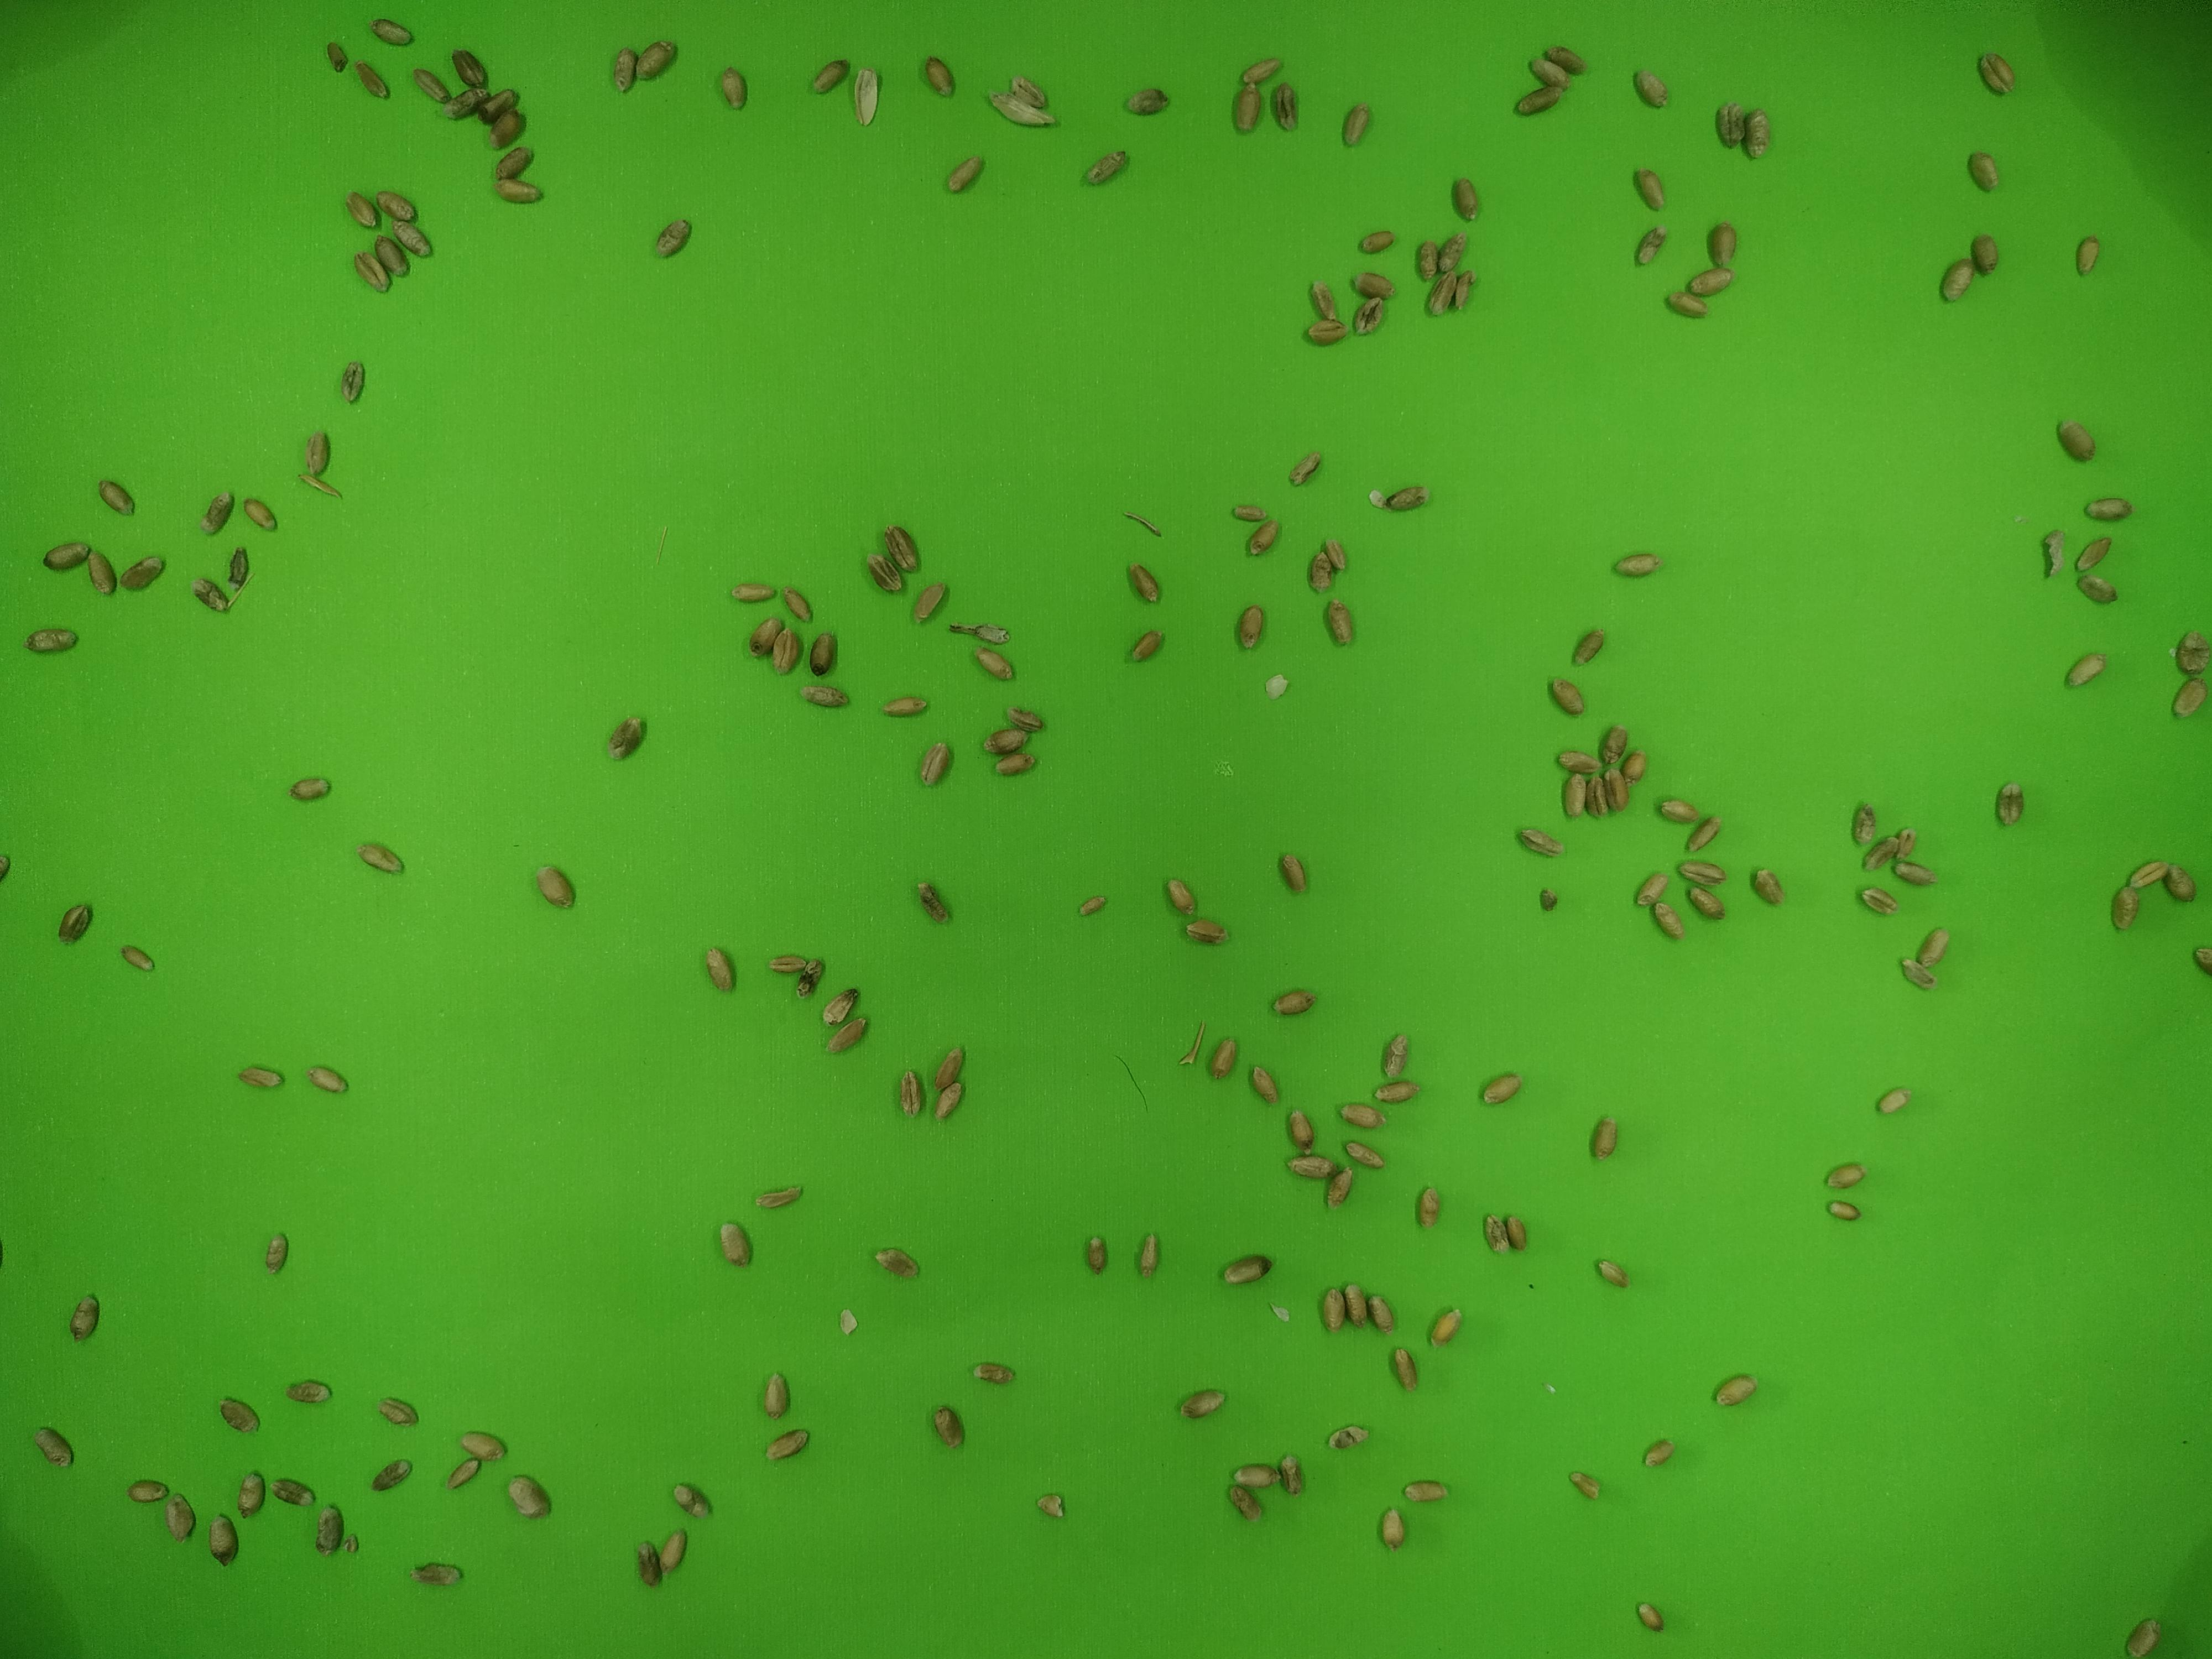bueno: (1976, 48, 2016, 98), (910, 879, 957, 923), (990, 744, 1040, 784), (915, 50, 956, 98), (2054, 418, 2100, 460), (757, 1369, 792, 1424), (1121, 561, 1164, 606), (507, 1473, 549, 1519), (1738, 107, 1776, 158), (532, 863, 575, 907), (485, 105, 526, 150), (1682, 881, 1728, 922), (1234, 600, 1269, 654), (312, 1503, 347, 1557), (943, 152, 984, 197), (701, 944, 739, 993), (1477, 1070, 1527, 1107), (1275, 845, 1310, 899), (1322, 594, 1356, 649), (161, 1492, 197, 1543), (51, 901, 92, 947), (634, 38, 680, 78), (2063, 649, 2110, 688), (1161, 873, 1199, 920), (714, 63, 750, 113), (1936, 255, 1975, 301), (122, 551, 167, 591), (1714, 96, 1746, 152), (1410, 1182, 1445, 1233), (354, 839, 404, 875), (217, 1394, 260, 1435), (1913, 928, 1953, 972), (2072, 533, 2116, 573), (1965, 144, 2000, 196), (458, 1429, 507, 1465), (655, 1526, 691, 1575), (351, 247, 389, 294), (1350, 266, 1397, 304), (284, 771, 333, 806), (1238, 51, 1285, 89), (932, 1399, 964, 1454), (1225, 1483, 1268, 1524), (917, 737, 952, 786), (824, 1016, 871, 1053), (808, 55, 851, 95), (1446, 176, 1482, 225), (1335, 1099, 1389, 1131), (2124, 1618, 2166, 1659), (1515, 81, 1562, 118), (373, 1393, 420, 1430), (41, 538, 91, 572), (1318, 1281, 1348, 1338), (1684, 815, 1726, 855), (1896, 953, 1938, 993), (1244, 515, 1284, 557), (1746, 865, 1786, 907), (969, 645, 1016, 681), (34, 1423, 72, 1467), (1266, 985, 1317, 1019), (1207, 1034, 1241, 1083), (1560, 770, 1592, 823), (1321, 1163, 1357, 1211), (207, 1509, 238, 1564), (1707, 217, 1740, 269), (1965, 228, 2001, 274), (412, 1558, 462, 1591), (1177, 1386, 1228, 1419), (1247, 1059, 1281, 1108), (1220, 1253, 1271, 1285), (2070, 572, 2121, 604), (1427, 1305, 1464, 1350), (1547, 675, 1587, 717), (302, 1061, 348, 1097), (669, 1480, 712, 1518), (23, 624, 76, 655), (1991, 781, 2025, 830), (67, 1293, 101, 1342), (1632, 163, 1666, 211), (1580, 779, 1624, 816), (494, 173, 539, 210), (910, 581, 947, 625), (724, 577, 776, 608), (1515, 826, 1564, 859), (1553, 744, 1601, 778), (1713, 1370, 1756, 1408), (1363, 1291, 1399, 1335), (1384, 482, 1433, 515), (1344, 1282, 1377, 1331), (872, 1244, 917, 1280), (493, 142, 535, 180), (352, 60, 390, 102), (1634, 867, 1671, 910), (774, 627, 804, 679), (656, 215, 690, 261), (1662, 289, 1713, 320), (407, 67, 453, 102), (2109, 881, 2141, 931), (86, 547, 118, 598), (1822, 1158, 1869, 1192), (931, 1076, 966, 1121), (764, 1428, 812, 1460), (966, 1358, 1018, 1388), (1123, 85, 1173, 117), (932, 1043, 968, 1087), (445, 1455, 484, 1495), (1676, 857, 1726, 888), (980, 723, 1026, 757), (1651, 896, 1686, 940), (1614, 547, 1662, 579), (1693, 260, 1734, 298), (1087, 147, 1128, 185), (1632, 67, 1670, 108), (1376, 1504, 1407, 1553), (1598, 720, 1630, 769), (1134, 1231, 1164, 1281), (1233, 84, 1264, 134), (1230, 1459, 1277, 1491), (1372, 1074, 1420, 1107), (800, 681, 852, 710), (1858, 883, 1901, 917), (234, 1471, 269, 1515), (1342, 100, 1373, 148), (1426, 269, 1459, 316), (1386, 1346, 1419, 1392), (611, 41, 639, 95), (374, 235, 410, 277), (2082, 494, 2135, 523), (880, 690, 931, 719), (718, 1221, 751, 1266), (1823, 1193, 1866, 1228), (1288, 1150, 1338, 1180), (95, 476, 134, 515), (1178, 918, 1231, 946), (1285, 1104, 1315, 1154), (234, 1062, 285, 1092), (452, 47, 488, 89), (300, 430, 332, 477), (2174, 631, 2207, 676), (239, 493, 276, 533), (1588, 1116, 1619, 1164), (1654, 794, 1700, 826), (1397, 1475, 1447, 1504), (1890, 858, 1939, 888), (444, 86, 487, 119), (1499, 1211, 1532, 1254), (343, 190, 379, 231), (1480, 1213, 1515, 1254), (269, 1476, 315, 1507), (1078, 1233, 1111, 1277), (1412, 237, 1444, 281), (749, 611, 779, 660), (810, 626, 837, 679), (1861, 836, 1897, 875), (284, 1378, 331, 1408), (259, 1231, 293, 1272), (1341, 1139, 1387, 1170), (1593, 1255, 1632, 1291), (2163, 863, 2198, 903), (1305, 312, 1345, 347), (633, 1541, 662, 1588), (120, 1476, 167, 1506), (1306, 277, 1338, 321), (373, 189, 419, 220), (1129, 625, 1165, 664), (1876, 827, 1921, 858), (2173, 676, 2208, 716), (1571, 625, 1604, 666), (1353, 228, 1400, 257), (118, 940, 156, 976), (368, 18, 414, 48), (371, 1457, 413, 1490), (1872, 1084, 1915, 1116), (1631, 1597, 1668, 1633), (1436, 231, 1472, 268), (1290, 448, 1321, 489), (1620, 748, 1652, 790), (2070, 234, 2099, 279), (389, 223, 434, 252), (471, 87, 509, 121), (1528, 57, 1567, 89), (1640, 1437, 1676, 1470), (2127, 858, 2170, 886), (315, 39, 351, 73), (1001, 705, 1045, 733), (781, 584, 812, 622), (1452, 264, 1477, 309), (1323, 536, 1348, 573), (765, 954, 808, 975), (1229, 502, 1274, 522), (1077, 894, 1105, 918)
danado: (1349, 291, 1388, 341), (894, 1065, 927, 1123), (609, 713, 648, 760), (1267, 82, 1304, 132), (1273, 1449, 1309, 1499), (197, 488, 233, 538), (878, 527, 922, 567), (1847, 801, 1881, 852), (1538, 43, 1588, 77), (865, 551, 902, 596), (1380, 1030, 1411, 1082), (1631, 225, 1668, 268), (1323, 1421, 1371, 1454), (791, 953, 827, 998), (190, 572, 228, 614), (337, 359, 369, 406), (1306, 550, 1336, 597), (227, 544, 252, 591)
impureza: (983, 84, 1060, 128), (850, 69, 885, 129), (948, 620, 1012, 646), (818, 987, 860, 1023), (295, 473, 343, 502), (756, 1187, 808, 1212), (1123, 510, 1165, 540), (1181, 1020, 1206, 1070), (1009, 74, 1046, 107), (228, 572, 256, 609), (835, 1305, 863, 1341), (1264, 1297, 1296, 1326), (1261, 671, 1290, 701), (1538, 885, 1558, 914), (1366, 487, 1384, 510)
partido: (2037, 528, 2067, 578), (1031, 1488, 1070, 1522), (1566, 1469, 1604, 1501)
